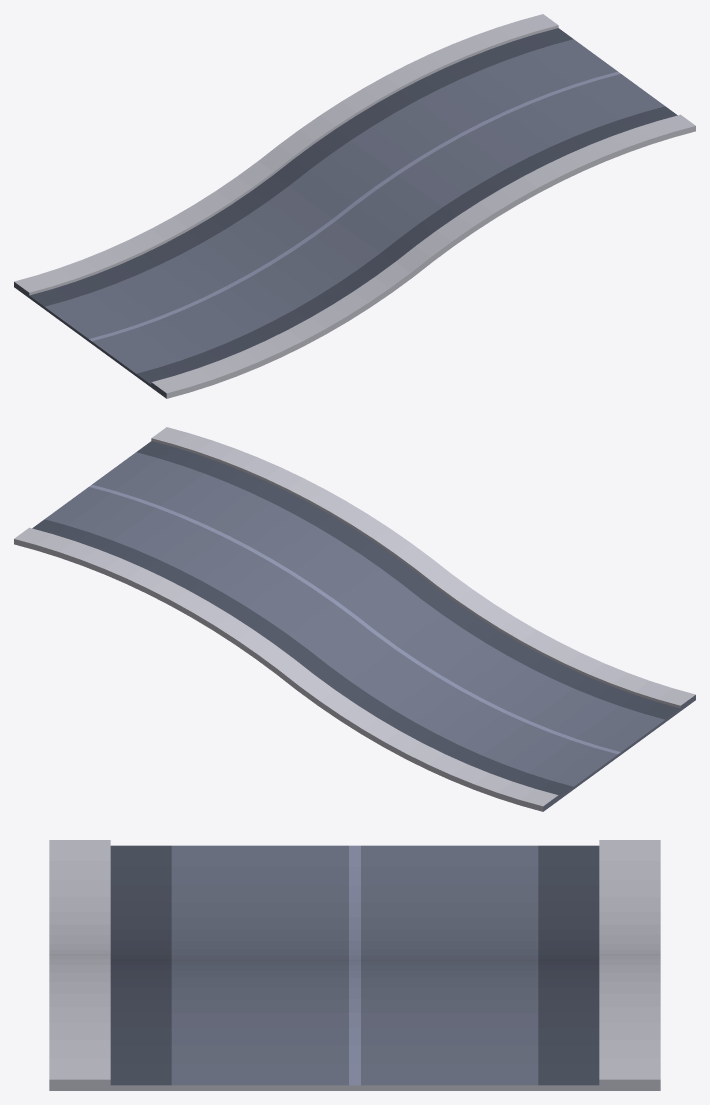
File: road_slantFlat_001.glb
3 views of the same model, one above another, from view 1: azimuth 30°, elevation 25°; view 2: azimuth 150°, elevation 25°; view 3: azimuth 270°, elevation 25° (orthographic). The views are drawn at different scales.
Parts seen in each view (by area): view 1: road_slantFlat.001_cf6f0e, road_slantFlat.001_1bcf1d, road_slantFlat.001_1e736b, road_slantFlat.001_403bcd; view 2: road_slantFlat.001_cf6f0e, road_slantFlat.001_1bcf1d, road_slantFlat.001_1e736b, road_slantFlat.001_403bcd; view 3: road_slantFlat.001_cf6f0e, road_slantFlat.001_1bcf1d, road_slantFlat.001_1e736b, road_slantFlat.001_403bcd.
Part boxes in pixels (x1,y1,x2,y2): road_slantFlat.001_cf6f0e: [14, 39, 664, 398]; road_slantFlat.001_1bcf1d: [14, 14, 695, 398]; road_slantFlat.001_1e736b: [29, 28, 677, 384]; road_slantFlat.001_403bcd: [89, 71, 620, 341]; road_slantFlat.001_cf6f0e: [45, 452, 695, 811]; road_slantFlat.001_1bcf1d: [14, 427, 695, 811]; road_slantFlat.001_1e736b: [32, 441, 680, 797]; road_slantFlat.001_403bcd: [89, 484, 620, 754]; road_slantFlat.001_cf6f0e: [171, 845, 538, 1085]; road_slantFlat.001_1bcf1d: [49, 840, 660, 1090]; road_slantFlat.001_1e736b: [110, 845, 599, 1085]; road_slantFlat.001_403bcd: [349, 845, 360, 1085].
Bounding box in the file's own units: 2 × 0.52 × 1.
